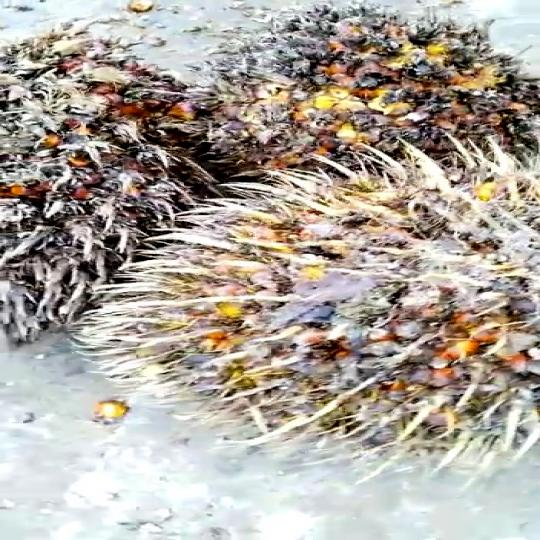terlalu masak: (78, 143, 540, 475)
